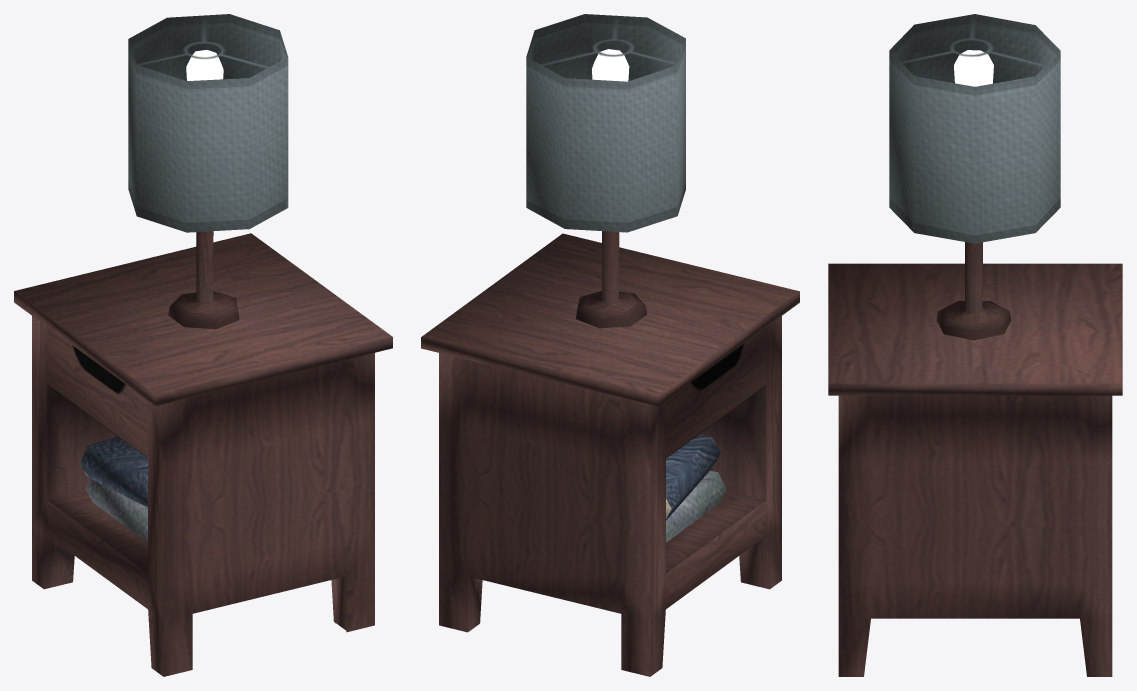
The model's file is bedside_table.glb.
The picture shows the model from 3 angles, left to right: view 1: azimuth 30°, elevation 25°; view 2: azimuth 150°, elevation 25°; view 3: azimuth 270°, elevation 25°; orthographic projection. The views are drawn at different scales.
Visible parts, largest first — view 1: Object_2, Object_3; view 2: Object_2, Object_3; view 3: Object_2, Object_3.
Part boxes in pixels (box(x1,y1,x2,y2)): Object_2: box(14, 14, 392, 676); Object_3: box(168, 50, 239, 329); Object_2: box(421, 14, 799, 676); Object_3: box(576, 49, 647, 328); Object_2: box(828, 14, 1122, 676); Object_3: box(936, 50, 1011, 340).
Bounding box in the file's own units: 52.63 × 118 × 54.45.
Materials: 2 (2 with a texture image).
